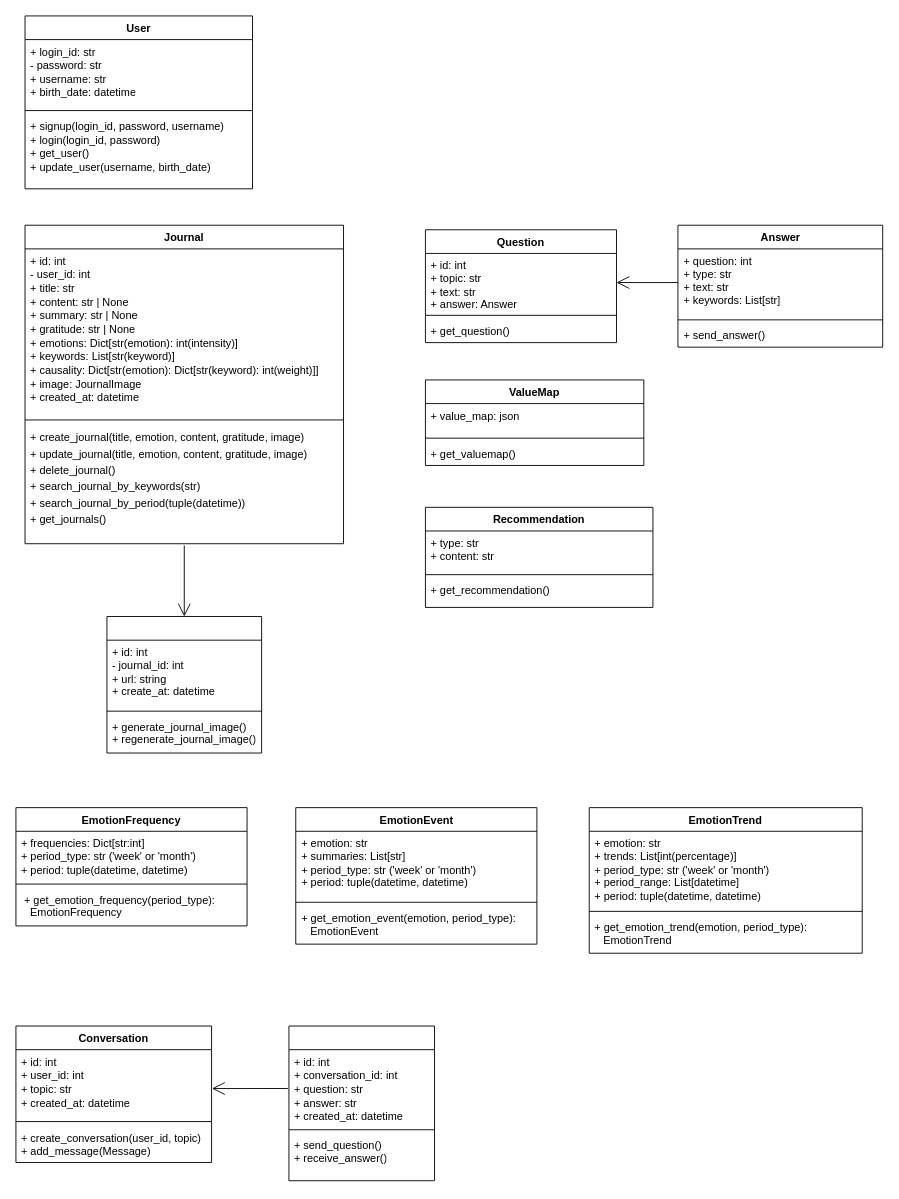
This 899x1199 diagram has some shape labels left out. The shapes that lost their labels are listed below. From the top down, each one's box as (x1, y1, x2, y2) in pixels, then its label:
(106, 616, 262, 753): JournelImage
(288, 1025, 435, 1181): Message
